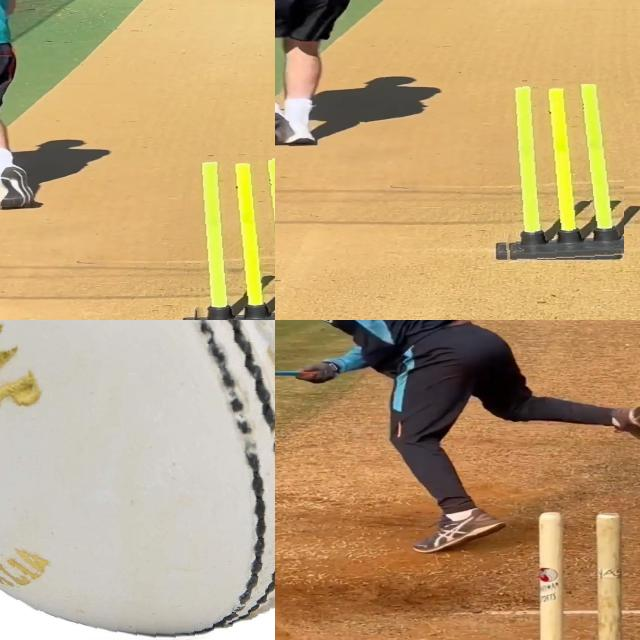Cricket ball: (0, 320, 275, 640)
Stumps: (493, 84, 624, 261), (183, 156, 275, 320), (533, 509, 640, 640)
